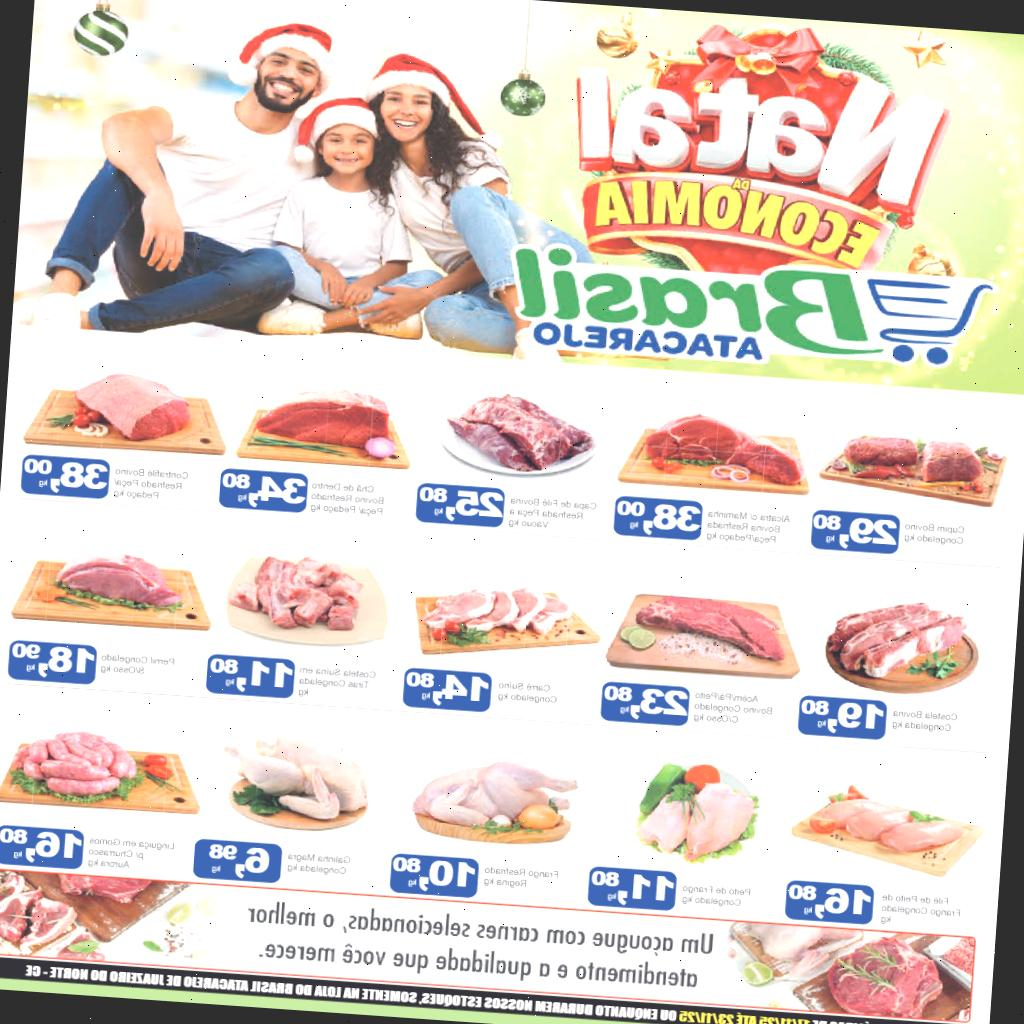price: (18, 452, 111, 500), (217, 467, 309, 514), (414, 482, 506, 528), (586, 866, 678, 912), (798, 694, 888, 740), (192, 838, 282, 884), (601, 680, 690, 726), (402, 667, 492, 712), (8, 640, 98, 685), (390, 853, 480, 898), (784, 880, 875, 924), (206, 654, 296, 698), (811, 510, 899, 554), (0, 823, 84, 869), (614, 497, 702, 539)
product_text: (84, 834, 180, 876), (690, 686, 778, 730), (506, 494, 599, 535), (294, 663, 382, 705), (705, 507, 793, 547), (878, 890, 964, 930), (308, 478, 388, 519), (110, 464, 190, 504), (98, 649, 180, 682), (480, 862, 564, 894), (678, 880, 756, 912), (493, 678, 563, 709), (890, 706, 962, 735), (284, 850, 356, 878), (902, 520, 970, 548)
